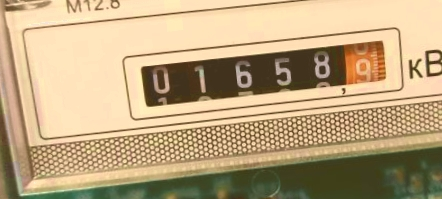0: (148, 61, 172, 95)
1: (192, 61, 209, 94)
5: (272, 53, 294, 87)
6: (232, 56, 255, 89)
8: (310, 47, 333, 81)
9: (352, 55, 372, 82)
screen: (113, 16, 411, 126)
